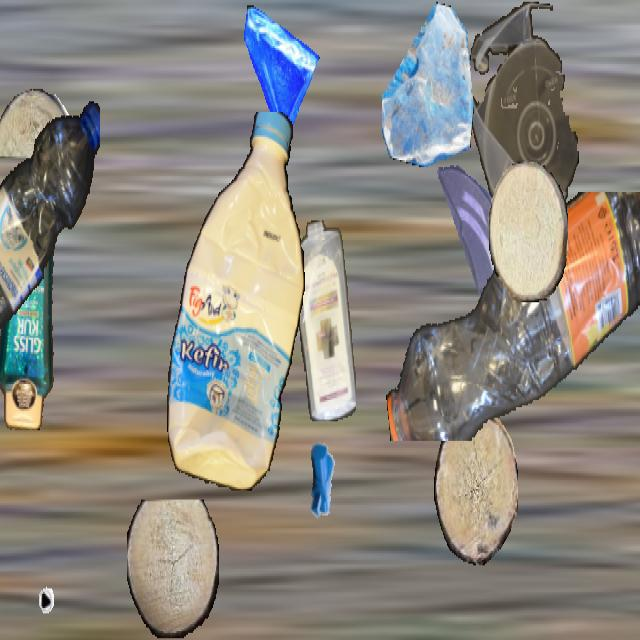glass: (382, 2, 474, 165), (433, 158, 517, 308), (238, 2, 320, 148)
metal: (292, 428, 354, 538), (1, 516, 61, 622)
plastic: (381, 192, 640, 441), (163, 112, 305, 489), (468, 2, 580, 236), (0, 89, 99, 338), (0, 176, 64, 428), (295, 220, 355, 420)
wood: (434, 412, 518, 566), (127, 500, 219, 638), (489, 162, 567, 300), (0, 89, 74, 156)
